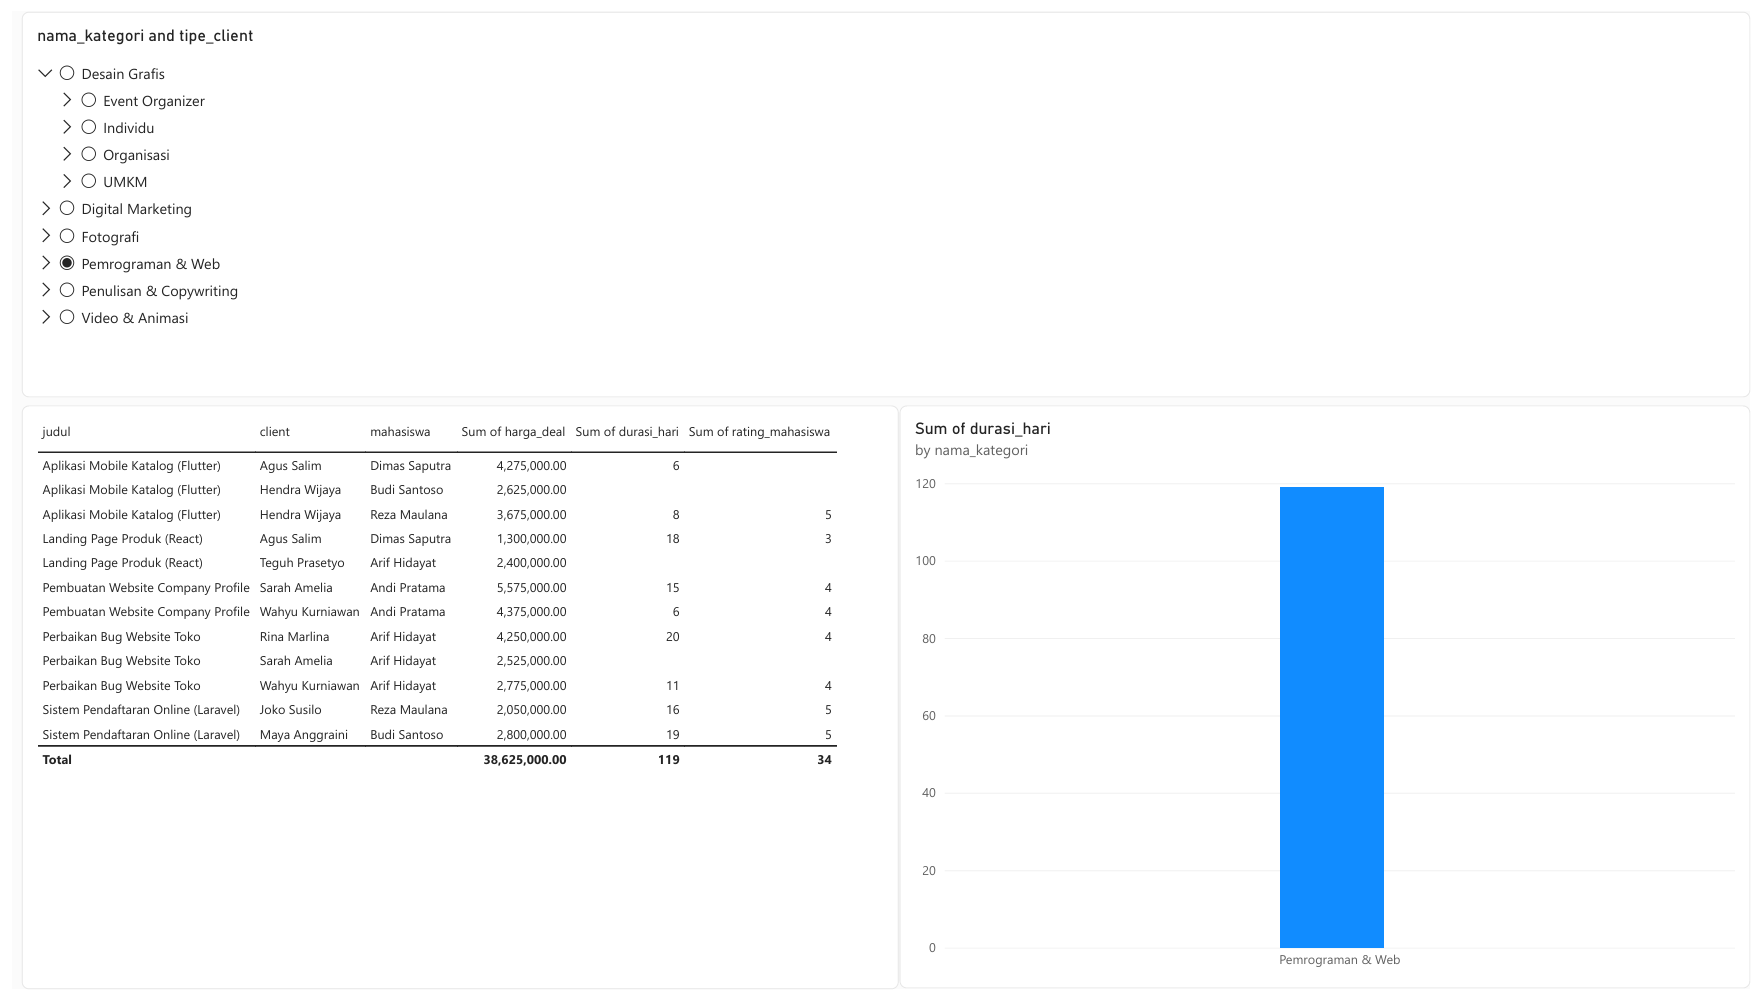

Layout of this report page (visuals, bound fields, positions):
{"tool":"powerbi","page":{"name":"Page 3","canvas":[1920,1080],"ordinal":2},"visuals":[{"type":"listSlicer","fields":{"Values":["skillconnect v_detail_proyek.nama_kategori","skillconnect v_detail_proyek.tipe_client","skillconnect v_detail_proyek.status"]},"box":[9.7,0,1910.3,425.8],"z":0},{"type":"tableEx","fields":{"Values":["skillconnect v_detail_proyek.judul","skillconnect v_detail_proyek.client","skillconnect v_detail_proyek.mahasiswa","Sum(skillconnect v_detail_proyek.harga_deal)","Sum(skillconnect v_detail_proyek.durasi_hari)","Sum(skillconnect v_detail_proyek.rating_mahasiswa)"]},"box":[9.7,435.5,969.7,644.3],"z":1},{"type":"lineStackedColumnComboChart","fields":{"Category":["skillconnect v_detail_proyek.nama_kategori"],"Y":["Sum(skillconnect v_detail_proyek.durasi_hari)"]},"box":[980,435,940,644],"z":2}]}

Visuals, with their boxes in screenshot pixels (x1, y1, x2, y2), scaled from the page's 1920x1080 canvas onto the 1762x1000 screenshot:
listSlicer - skillconnect v_detail_proyek.nama_kategori x skillconnect v_detail_proyek.tipe_client: bbox=(9, 0, 1761, 394)
tableEx - skillconnect v_detail_proyek.judul x skillconnect v_detail_proyek.client: bbox=(9, 403, 899, 999)
lineStackedColumnComboChart - skillconnect v_detail_proyek.nama_kategori x Sum(skillconnect v_detail_proyek.durasi_hari): bbox=(899, 403, 1761, 999)
